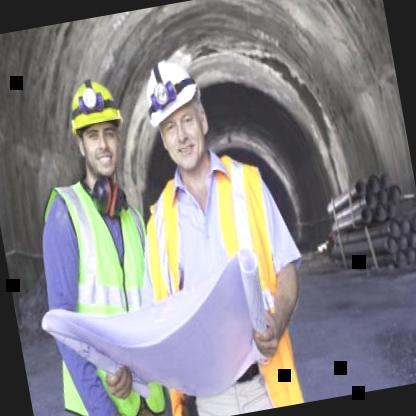helmet: (133, 46, 220, 184), (58, 70, 138, 193)
